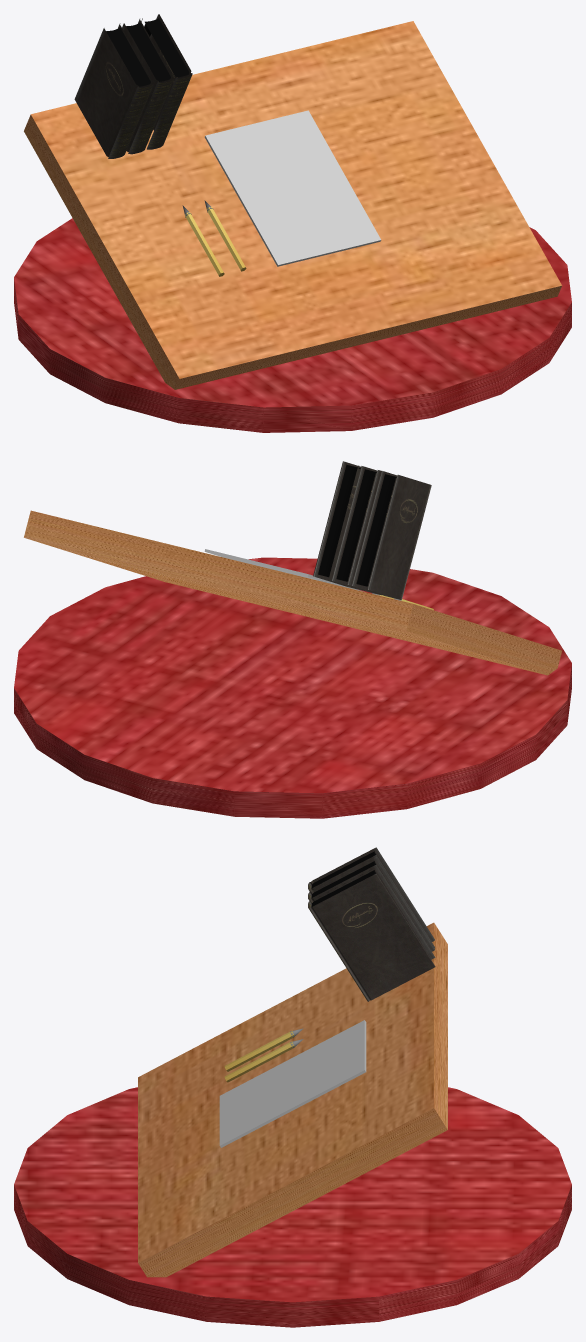
Rendered from 3-3 desk.obj.
3 views of the same model, one above another, from view 1: azimuth 30°, elevation 25°; view 2: azimuth 150°, elevation 25°; view 3: azimuth 270°, elevation 25° (orthographic).
Parts seen in each view (by area): view 1: polySurface1180 polySurface1182, polySurface1181 polySurface1180, polySurface1180 polySurface1202, polySurface1213, polySurface1212, polySurface1214; view 2: polySurface1181 polySurface1180, polySurface1180 polySurface1182, polySurface1213, polySurface1214, polySurface1180 polySurface1202; view 3: polySurface1181 polySurface1180, polySurface1180 polySurface1182, polySurface1180 polySurface1194, polySurface1180 polySurface1202, polySurface1213, polySurface1214.
Boxes of the visible parts, <box> form: polySurface1180 polySurface1182: <box>24,21,561,389</box>; polySurface1181 polySurface1180: <box>14,218,571,432</box>; polySurface1180 polySurface1202: <box>204,110,381,266</box>; polySurface1213: <box>74,14,191,156</box>; polySurface1212: <box>108,73,192,158</box>; polySurface1214: <box>106,18,189,86</box>; polySurface1181 polySurface1180: <box>14,557,571,818</box>; polySurface1180 polySurface1182: <box>24,510,561,675</box>; polySurface1213: <box>313,461,430,599</box>; polySurface1214: <box>318,464,396,586</box>; polySurface1180 polySurface1202: <box>204,549,364,591</box>; polySurface1181 polySurface1180: <box>14,1087,571,1327</box>; polySurface1180 polySurface1182: <box>138,922,447,1277</box>; polySurface1180 polySurface1194: <box>310,874,435,1000</box>; polySurface1180 polySurface1202: <box>219,1020,366,1147</box>; polySurface1213: <box>310,847,434,959</box>; polySurface1214: <box>311,851,375,906</box>.
Size of the model in its own units: 640 by 369 by 640.
